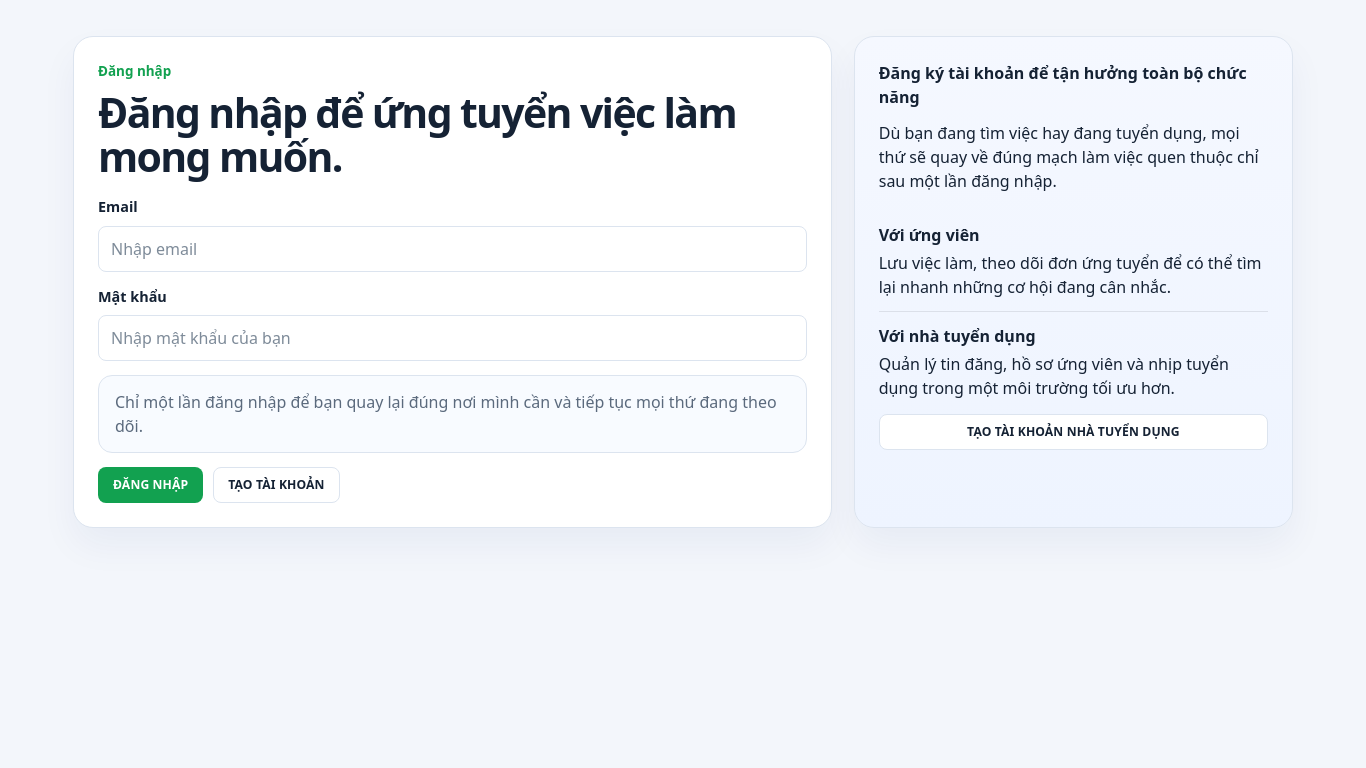
Test: LoginPage › shows request error when login fails
In the field labelled "Email": (452, 249) [98,226,807,272], type "candidate@jobportal.test"
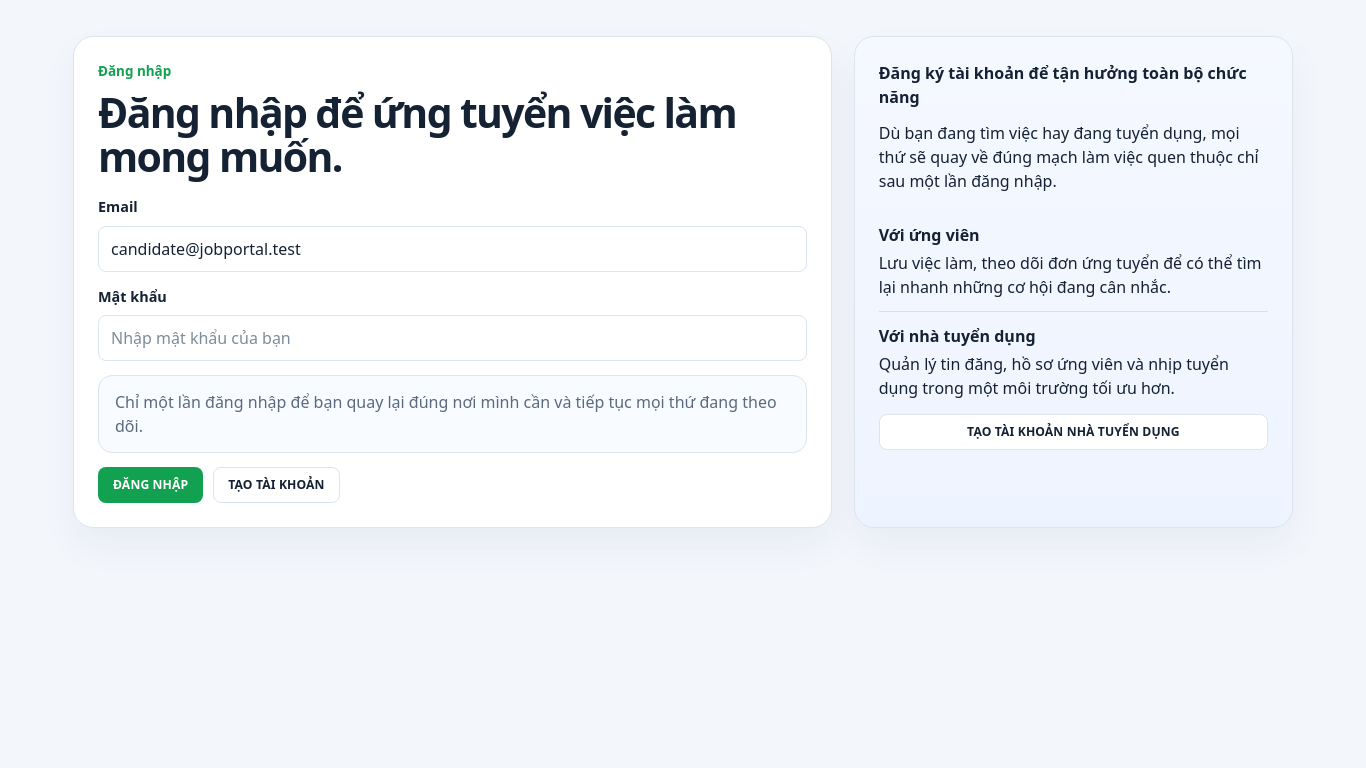
In the password field labelled "Mật khẩu": (452, 338) [98,315,807,361], type "bad-password"
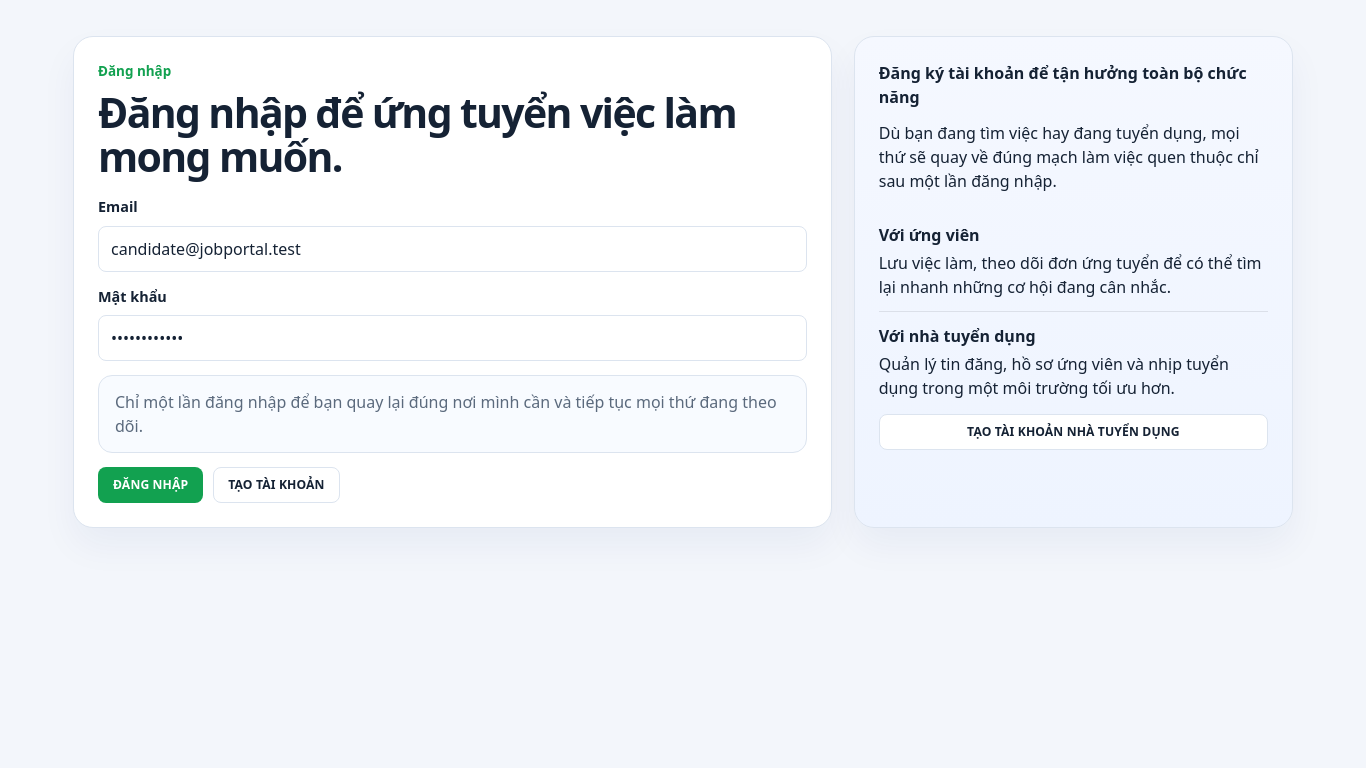
Click the button "Đăng nhập": (151, 485) [98,467,203,503]
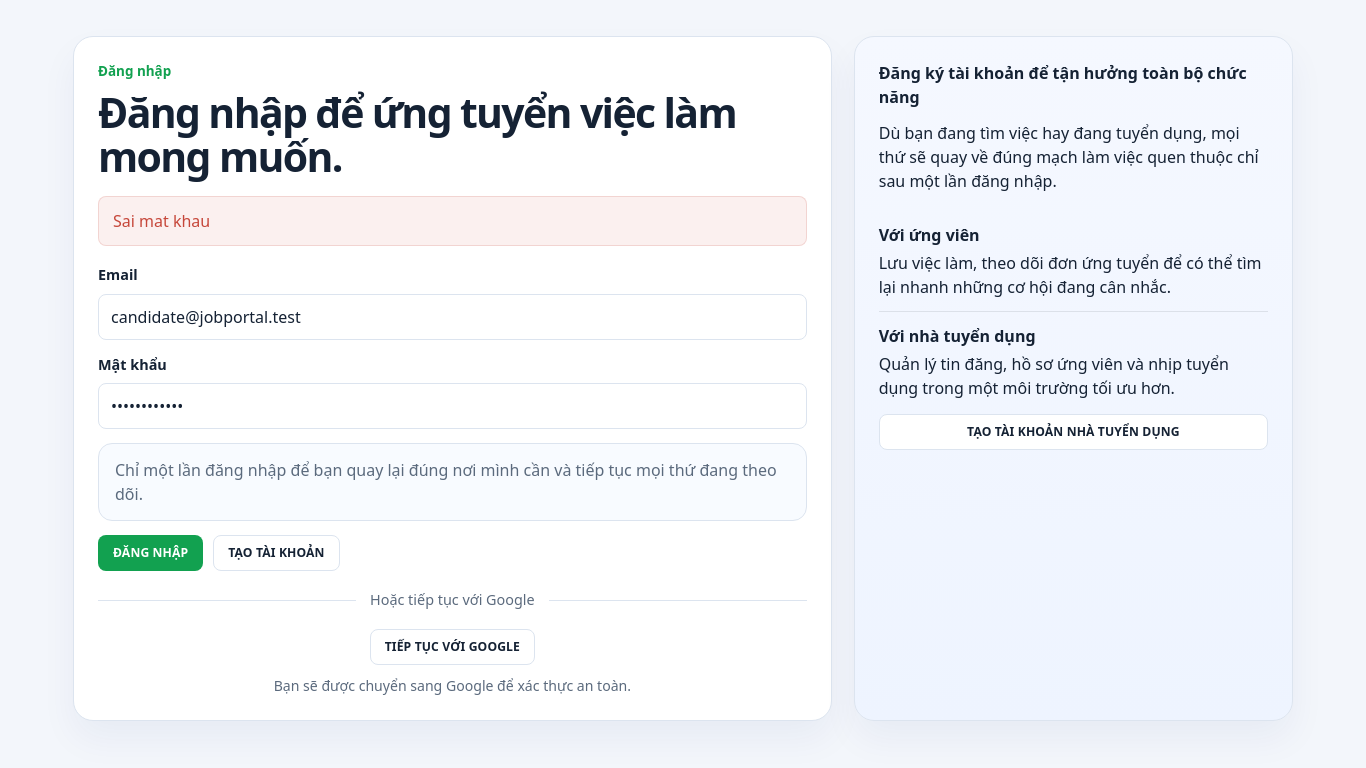
expect the text "Sai mat khau" is shown: met, box [98,196,807,246]
